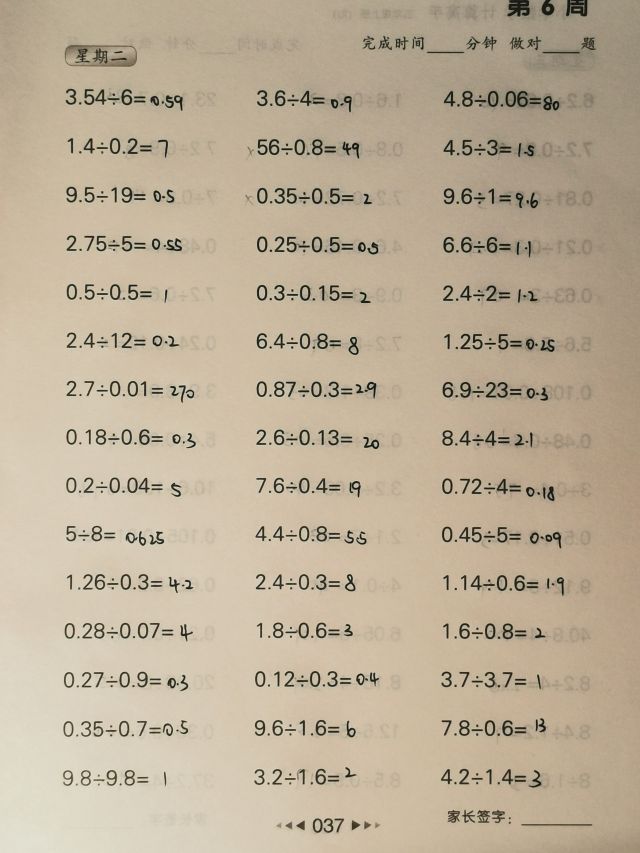equation: (438, 85, 596, 113), (62, 85, 189, 116), (438, 135, 593, 160), (62, 375, 198, 403), (60, 617, 196, 644), (439, 568, 569, 596), (436, 521, 565, 549), (59, 666, 192, 693), (61, 424, 199, 450), (252, 424, 383, 451), (241, 182, 375, 208), (63, 569, 196, 595), (250, 665, 382, 691), (437, 473, 559, 501), (252, 231, 382, 257), (243, 133, 363, 161), (61, 472, 185, 499), (59, 715, 191, 740), (251, 520, 370, 547), (253, 376, 381, 401), (252, 279, 374, 305), (252, 327, 363, 355), (63, 231, 187, 256), (439, 328, 558, 354), (437, 376, 551, 403), (64, 328, 183, 353), (63, 133, 172, 160), (62, 182, 178, 207), (62, 521, 169, 548), (253, 473, 364, 499), (252, 85, 355, 113), (250, 763, 359, 789), (250, 714, 359, 740), (252, 570, 361, 596), (59, 766, 172, 791), (436, 666, 544, 692), (438, 183, 542, 210), (437, 714, 549, 739), (439, 619, 549, 644), (436, 765, 545, 790), (62, 279, 171, 304), (438, 231, 535, 259), (253, 617, 357, 642), (438, 280, 541, 305), (437, 425, 537, 450)
